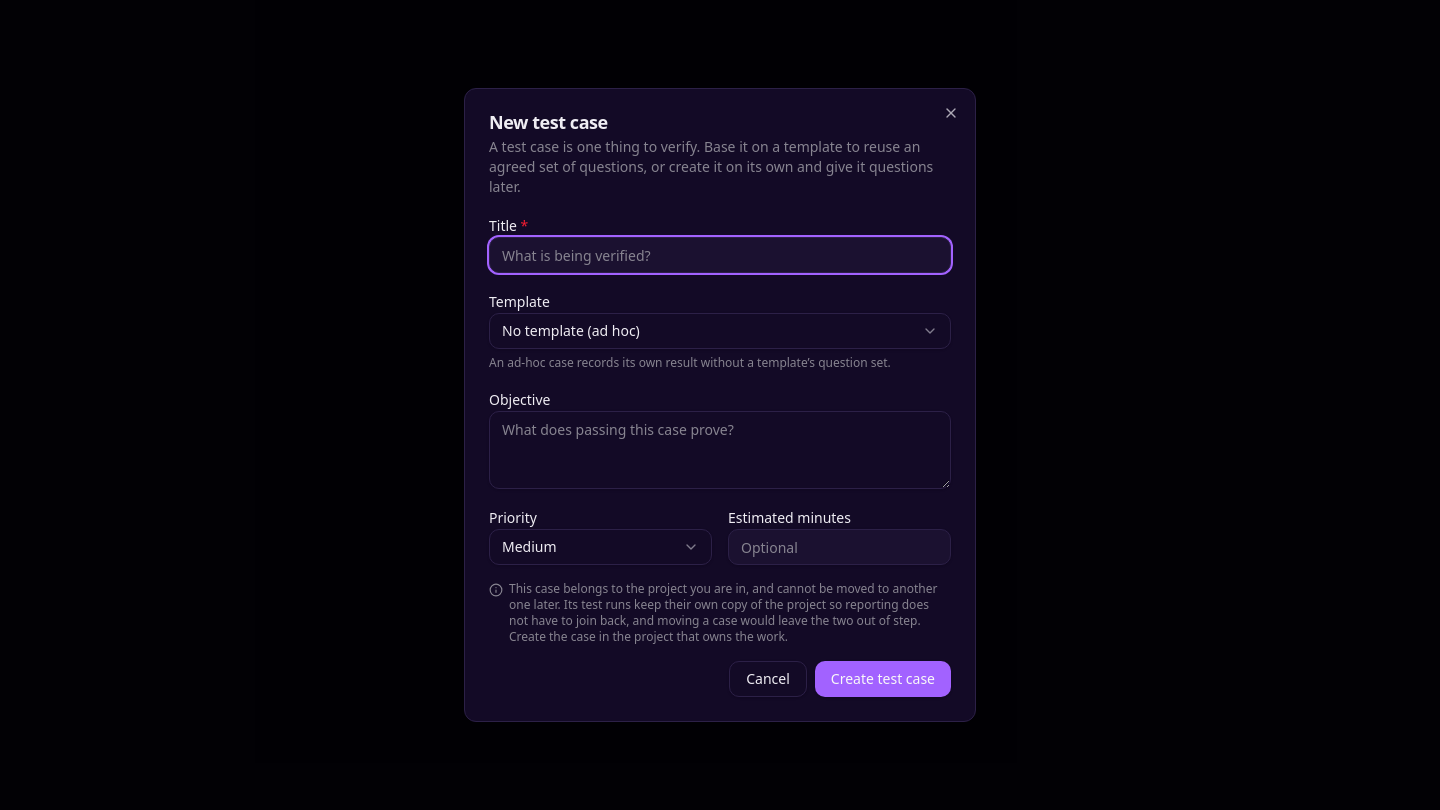
Test: the ad-hoc path (FR-013) › rejects a non-integer estimate before the platform has to
The image size is (1440, 810).
In the field labelled "Title *": (720, 255) [489,237,951,273], type "Case"
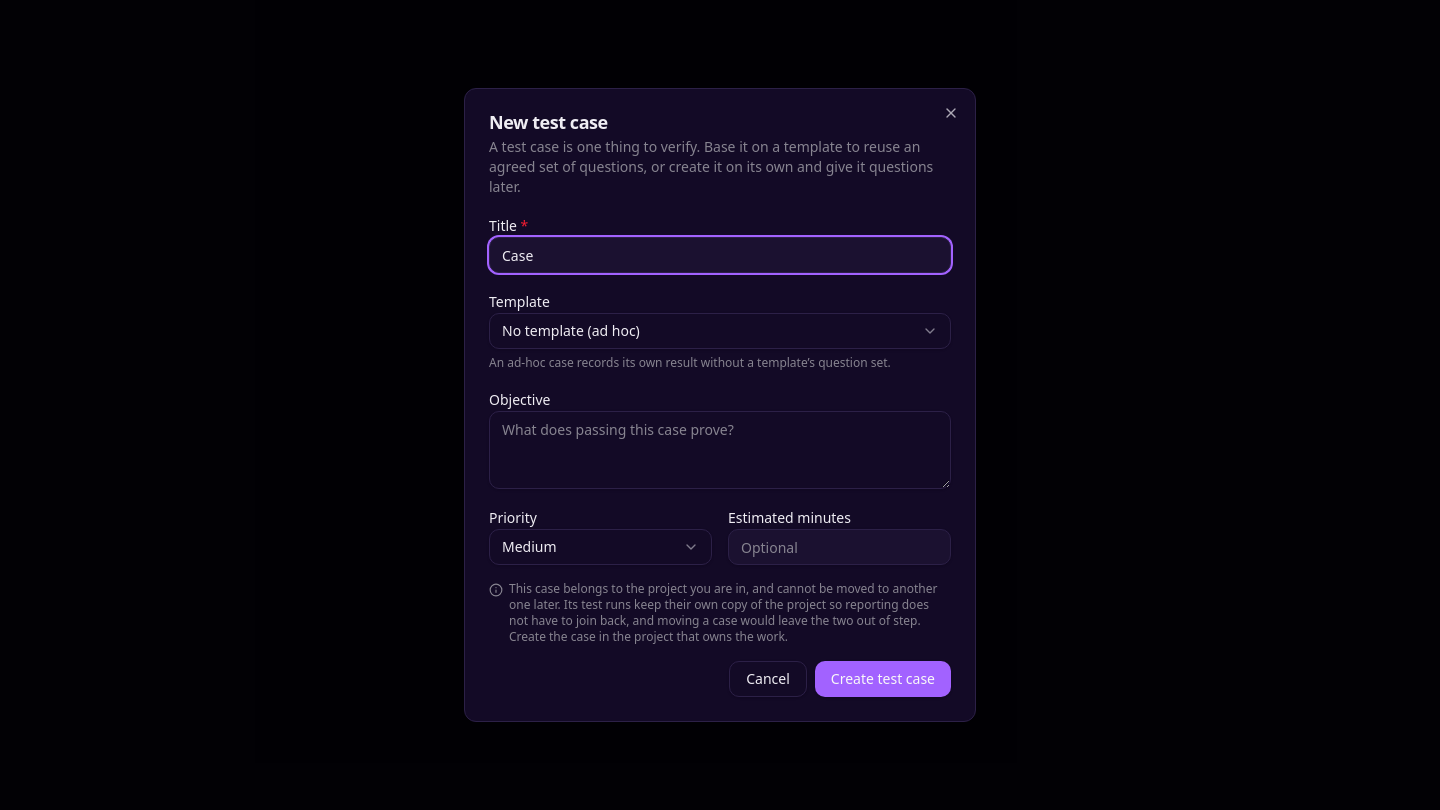
In the field labelled "Estimated minutes": (840, 547) [728,529,951,565], type "4.5"
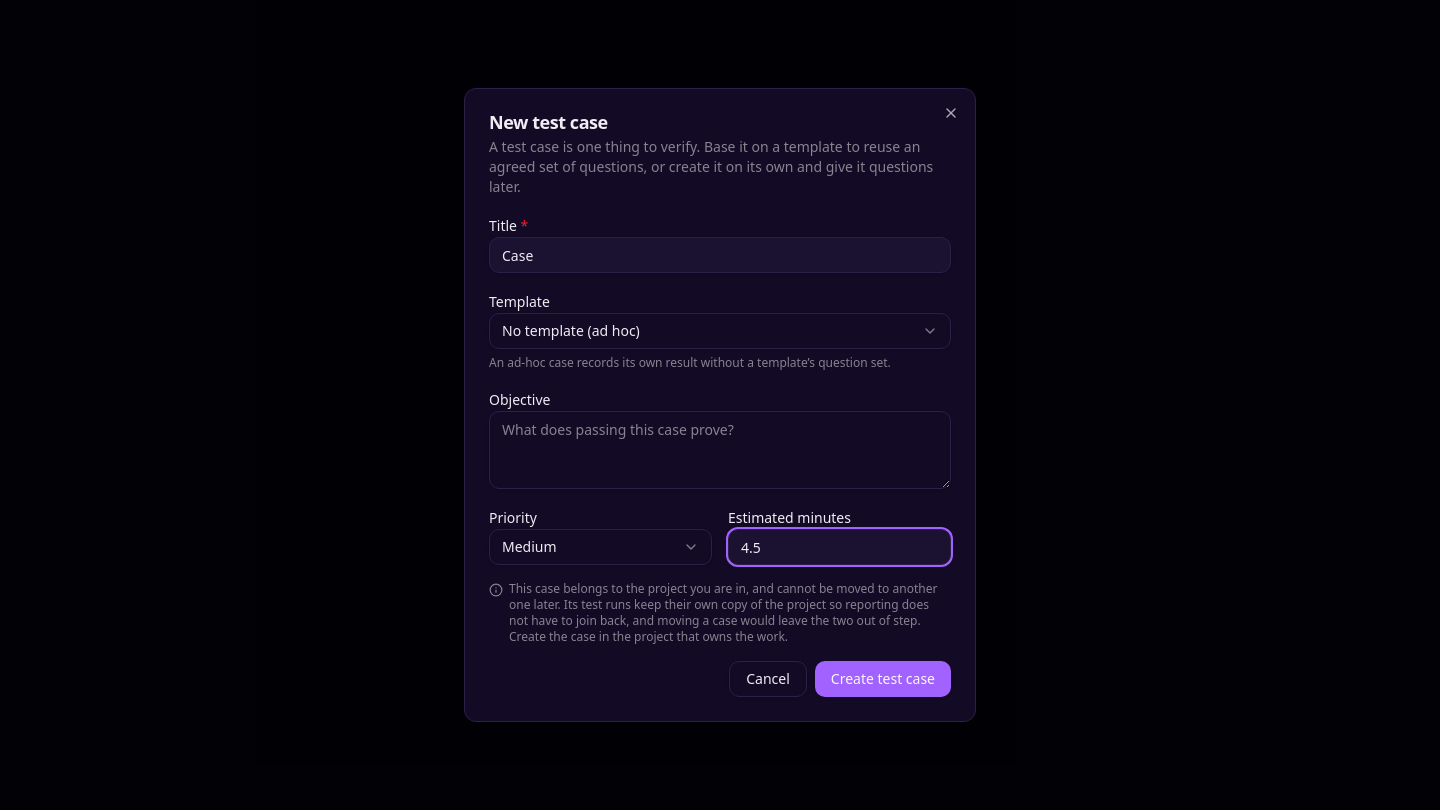
Click the button "Create test case": (883, 679) [815,661,951,697]
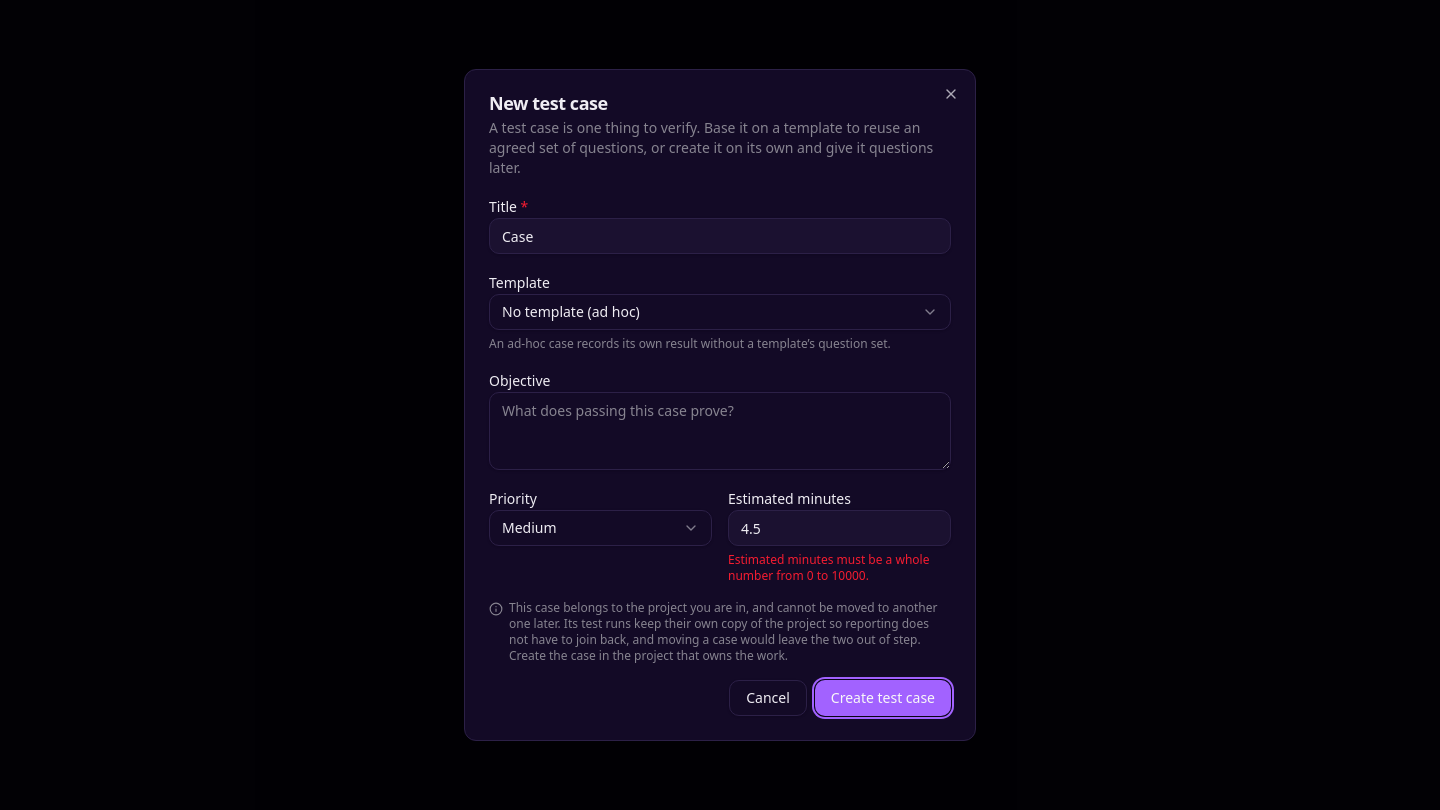
Expected: the message shows "whole number", [728,551,930,584]
